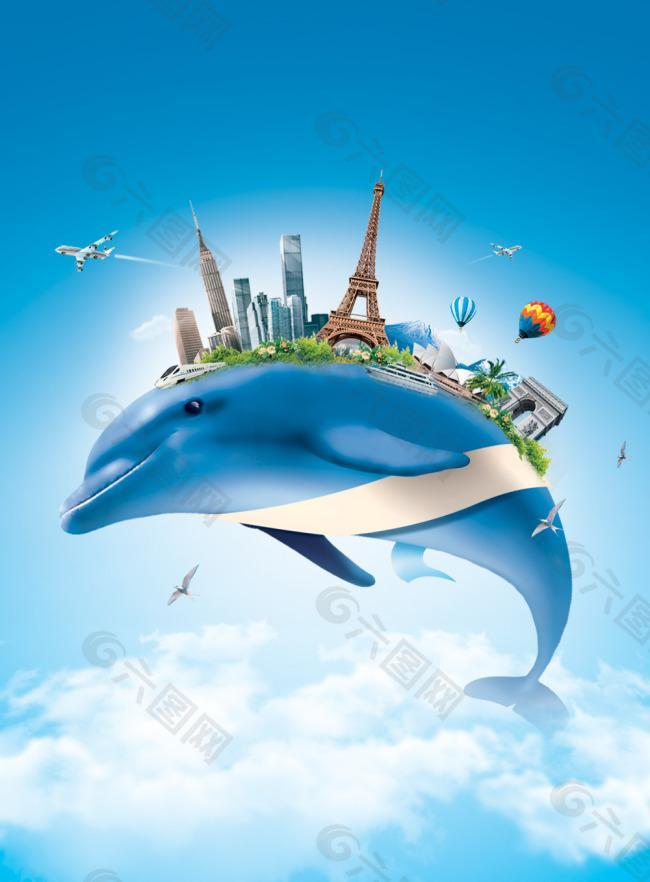fish: (52, 339, 573, 731)
